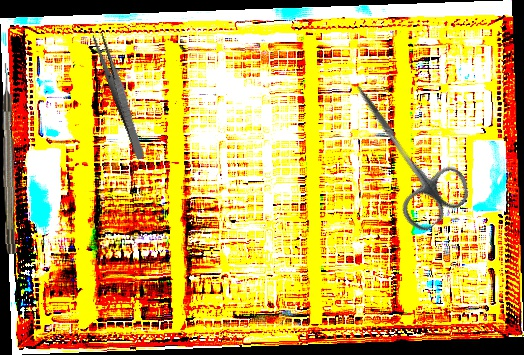Dressing Forceps: (90, 31, 150, 161)
Hook Surgical: (1, 62, 16, 255)
Iris Scissors: (326, 67, 477, 237)
